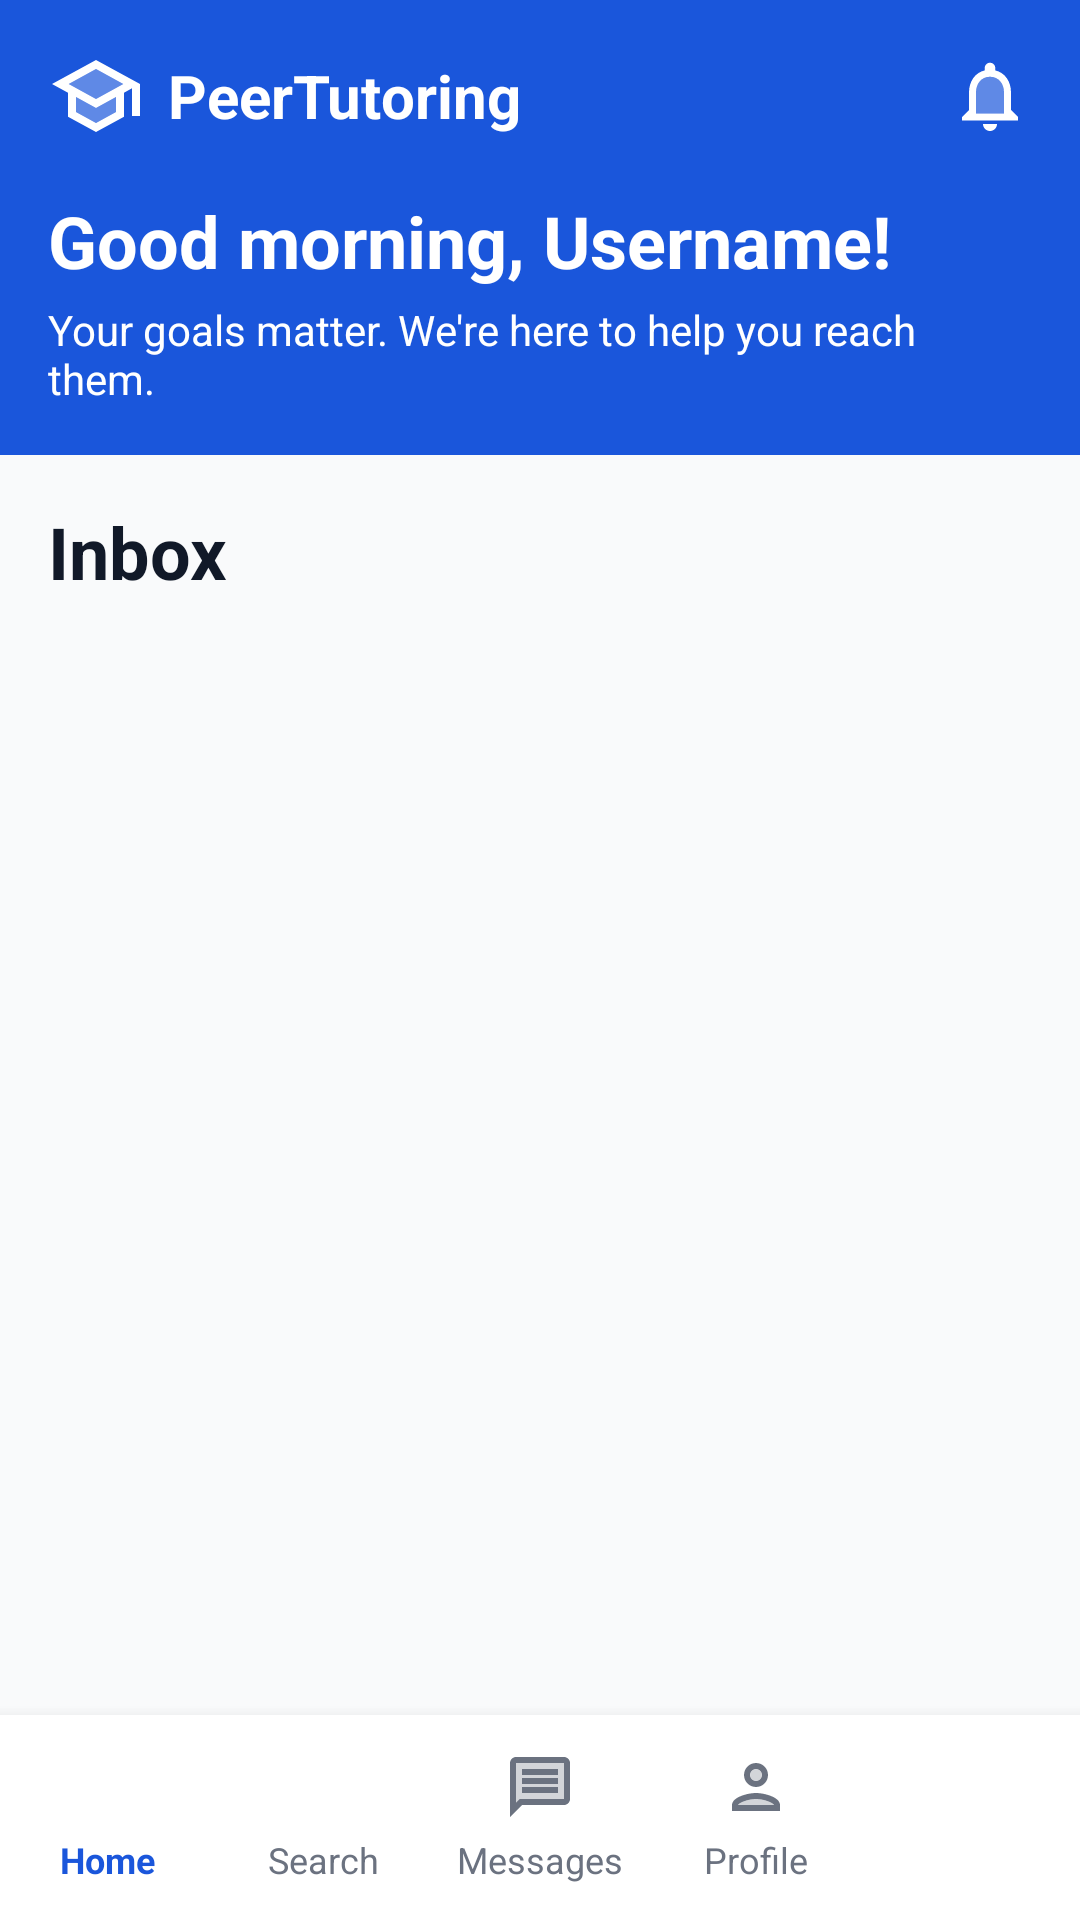

Point at icon controls on the screen. Image size 1080w x 1920h, points as (x=x, y=y).
notifications: (x=990, y=96)
person: (x=756, y=1787)
school hat: (x=96, y=96)
